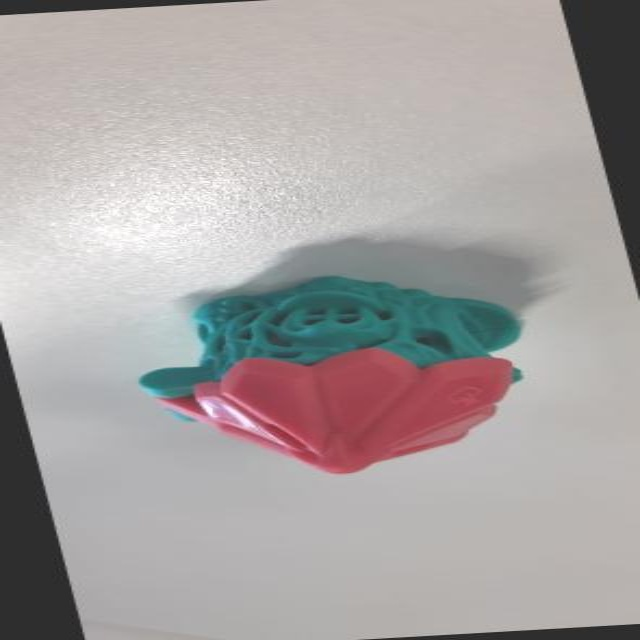House: (94, 263, 576, 501)
